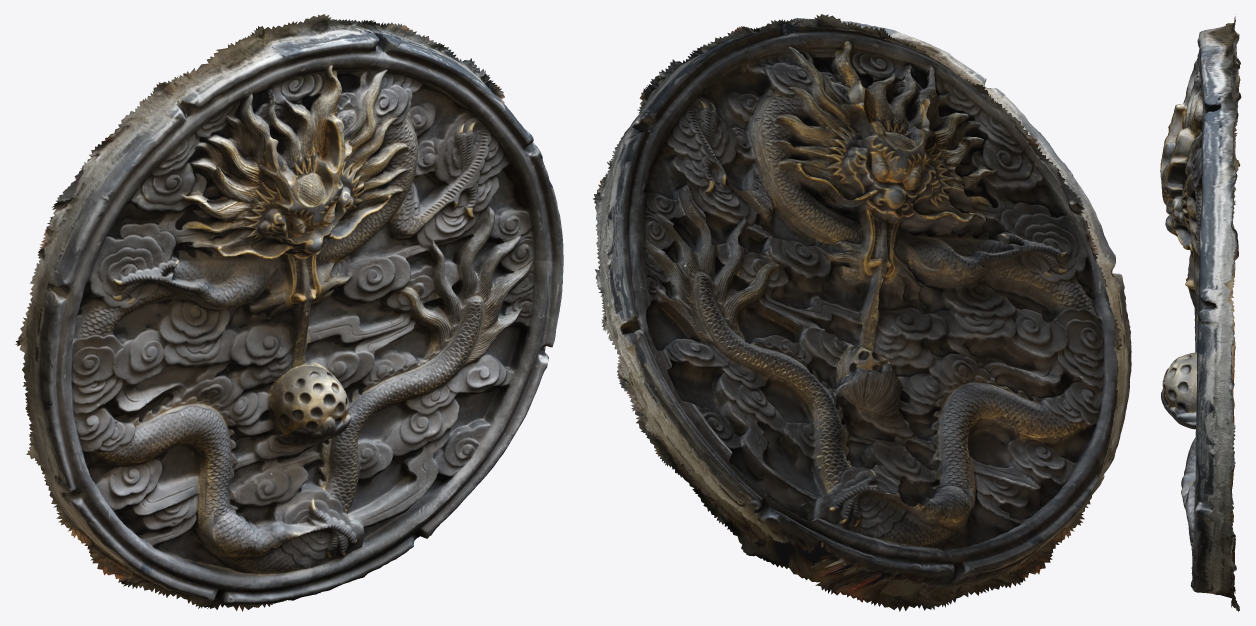
File: dragon_circle.glb
The picture shows the model from 3 angles, left to right: view 1: azimuth 30°, elevation 25°; view 2: azimuth 150°, elevation 25°; view 3: azimuth 270°, elevation 25°; orthographic projection. The views are drawn at different scales.
Visible parts, largest first — view 1: Object_2; view 2: Object_2; view 3: Object_2.
Part boxes in pixels (x1,y1,x2,y2): Object_2: (15,14,563,611); Object_2: (593,14,1131,611); Object_2: (1160,14,1241,611).
Size of the model in its own units: 41.87 by 43.66 by 5.91.
Materials: 1 (1 with a texture image).
